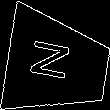N_E: (32, 41, 82, 89)
